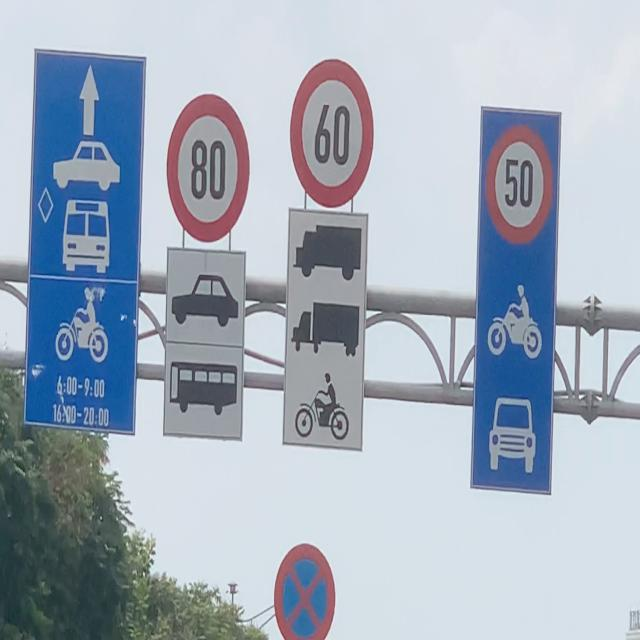Cam dung va do: (274, 542, 336, 640)
Toc do toi da: (165, 93, 251, 243), (290, 58, 374, 209), (485, 124, 553, 244)
